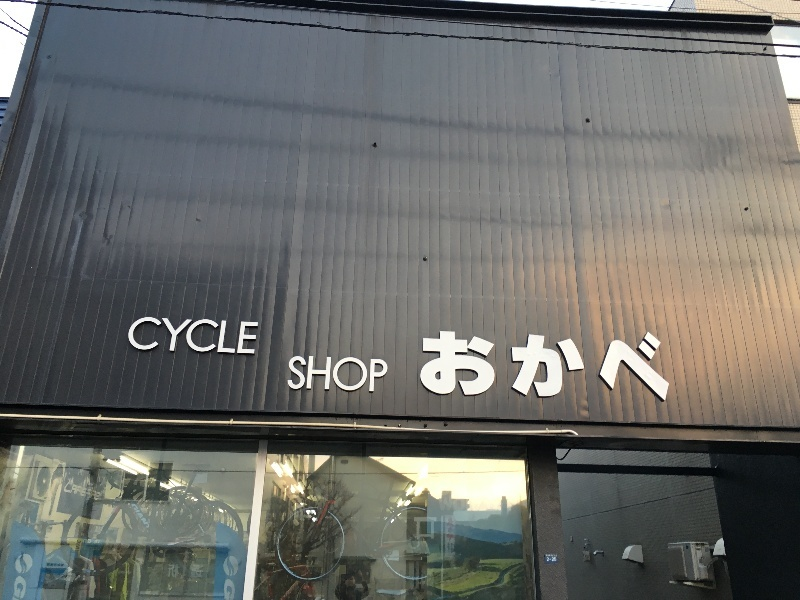text: (433, 331, 448, 404), (449, 331, 464, 404), (465, 331, 480, 404), (481, 331, 496, 404), (497, 331, 512, 404), (513, 331, 528, 404), (529, 331, 544, 404), (545, 331, 560, 404), (561, 331, 576, 404), (577, 331, 592, 404), (593, 331, 608, 404), (609, 331, 624, 404), (625, 331, 640, 404), (641, 331, 656, 404), (657, 331, 671, 404), (145, 317, 160, 357), (161, 317, 176, 357), (177, 317, 192, 357), (193, 317, 208, 357), (209, 317, 224, 357), (225, 317, 240, 357), (241, 317, 256, 357), (289, 356, 304, 395), (305, 356, 320, 395), (321, 356, 336, 395), (337, 356, 352, 395), (353, 356, 368, 395), (369, 356, 384, 395), (424, 331, 432, 404), (131, 317, 144, 357), (81, 482, 96, 501), (68, 482, 80, 501), (177, 564, 192, 579), (136, 504, 144, 530), (385, 356, 389, 395), (145, 504, 151, 530), (193, 564, 203, 579), (449, 518, 455, 541), (169, 564, 176, 579), (97, 482, 102, 501), (257, 317, 259, 357), (547, 557, 560, 562), (546, 554, 560, 557), (77, 540, 80, 554), (447, 518, 448, 541)
